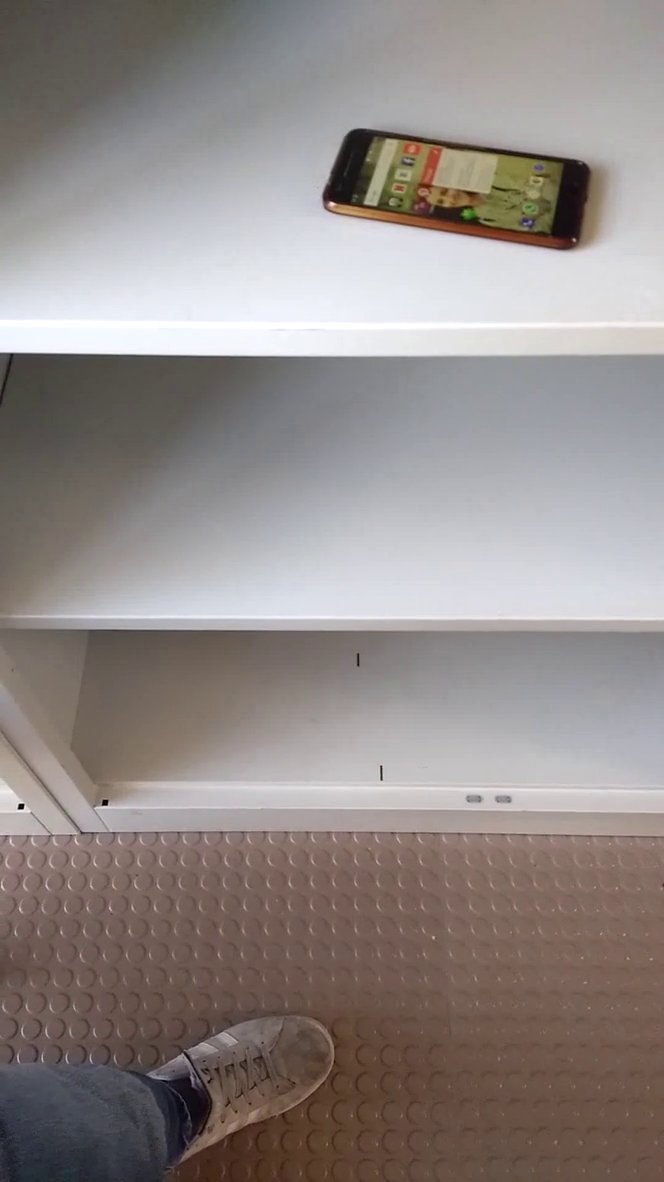phone: (312, 116, 609, 261)
